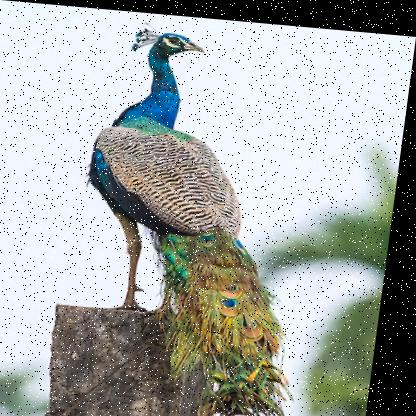Burung: (67, 16, 342, 415)
